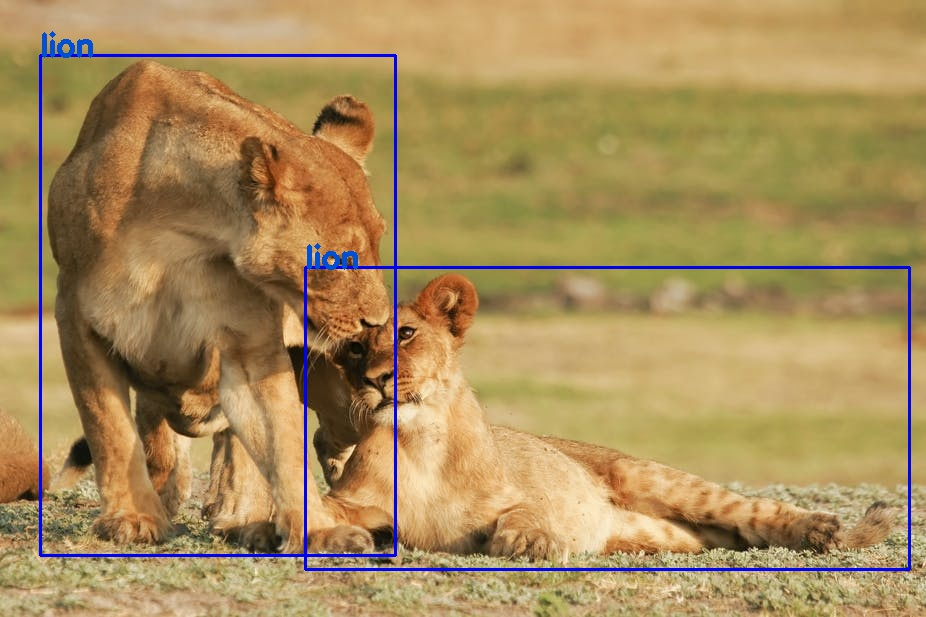lion: (305, 267, 909, 569), (39, 54, 394, 554)
